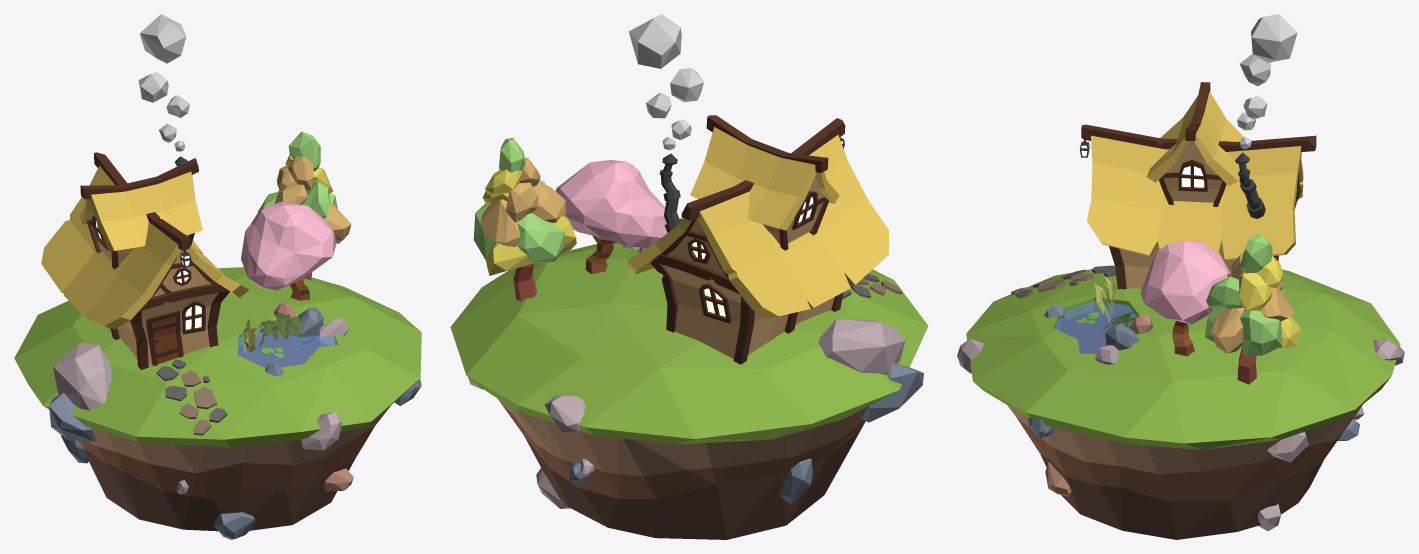
3 renders of one model, left to right at view 1: azimuth 30°, elevation 25°; view 2: azimuth 150°, elevation 25°; view 3: azimuth 270°, elevation 25°, orthographic. The views are drawn at different scales.
Visible parts, largest first — view 1: Cylinder.006, Cylinder, Cube.001, Icosphere.016, Cube.003, Cube, Icosphere.038, Cylinder.008, Icosphere.037, Cylinder.001, Icosphere.020, Cube.005 (+17 smaller); view 2: Cylinder.006, Cylinder, Cube.001, Cube.003, Icosphere.016, Cube, Icosphere.038, Icosphere.037, Icosphere.011, Cube.004, Icosphere.020, Cube.005 (+17 smaller); view 3: Cylinder.006, Cylinder, Cube.001, Icosphere.016, Cube.003, Cylinder.008, Cube.004, Cube.002, Icosphere.037, Icosphere.015, Cylinder.001, Icosphere.012 (+13 smaller).
Part boxes in pixels (<box>): Cylinder.006: <box>14,267,421,447</box>; Cylinder: <box>79,405,390,531</box>; Cube.001: <box>41,165,249,329</box>; Icosphere.016: <box>241,202,336,290</box>; Cube.003: <box>80,171,202,251</box>; Cube: <box>106,250,218,365</box>; Icosphere.038: <box>53,342,112,410</box>; Cylinder.008: <box>238,326,337,367</box>; Icosphere.037: <box>140,14,186,63</box>; Cylinder.001: <box>238,333,325,367</box>; Icosphere.020: <box>49,392,95,441</box>; Cube.005: <box>80,158,198,199</box>; Cylinder.006: <box>450,242,928,444</box>; Cylinder: <box>497,398,868,539</box>; Cube.001: <box>626,135,888,318</box>; Cube.003: <box>690,127,839,230</box>; Icosphere.016: <box>556,160,667,247</box>; Cube: <box>662,218,834,358</box>; Icosphere.038: <box>818,318,905,374</box>; Icosphere.037: <box>628,14,681,68</box>; Icosphere.011: <box>517,213,564,263</box>; Cube.004: <box>681,118,845,220</box>; Icosphere.020: <box>862,362,923,422</box>; Cube.005: <box>706,115,828,172</box>; Cylinder.006: <box>966,265,1400,449</box>; Cylinder: <box>1007,404,1362,539</box>; Cube.001: <box>1087,135,1303,260</box>; Icosphere.016: <box>1140,241,1230,324</box>; Cube.003: <box>1146,91,1244,185</box>; Cylinder.008: <box>1055,301,1137,353</box>; Cube.004: <box>1081,124,1316,152</box>; Cube.002: <box>1163,141,1222,202</box>; Icosphere.037: <box>1251,14,1297,62</box>; Icosphere.015: <box>1240,309,1282,356</box>; Cylinder.001: <box>1059,310,1132,353</box>; Icosphere.012: <box>1211,307,1244,353</box>.
Bounding box in the file's own units: 8.24 × 9.72 × 8.34.
